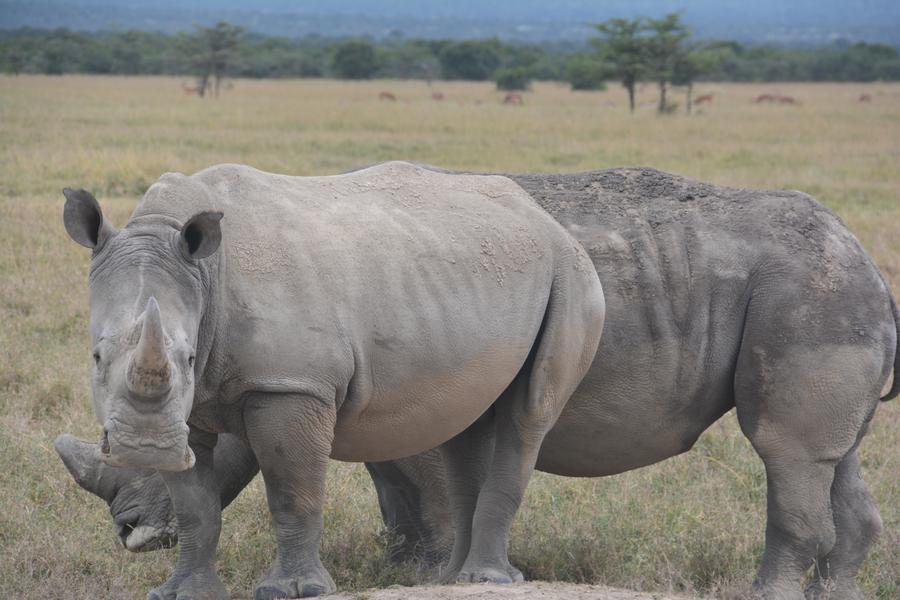rhino: (122, 177, 596, 472), (612, 187, 895, 481)
